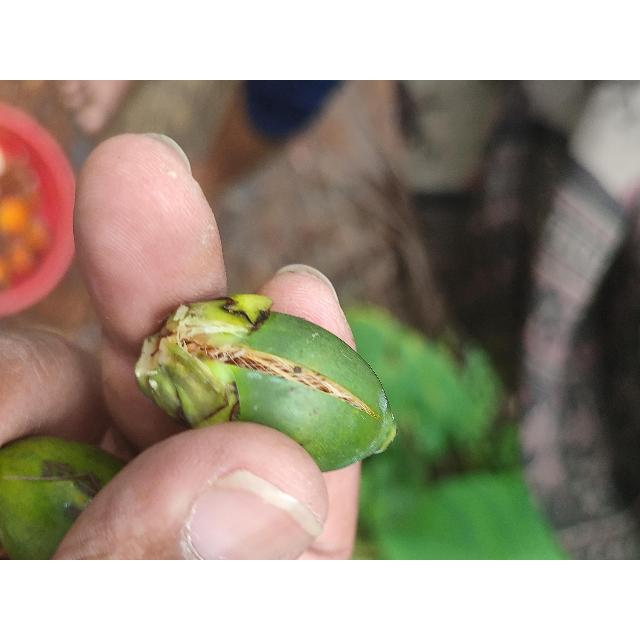damaged: (135, 296, 397, 474)
